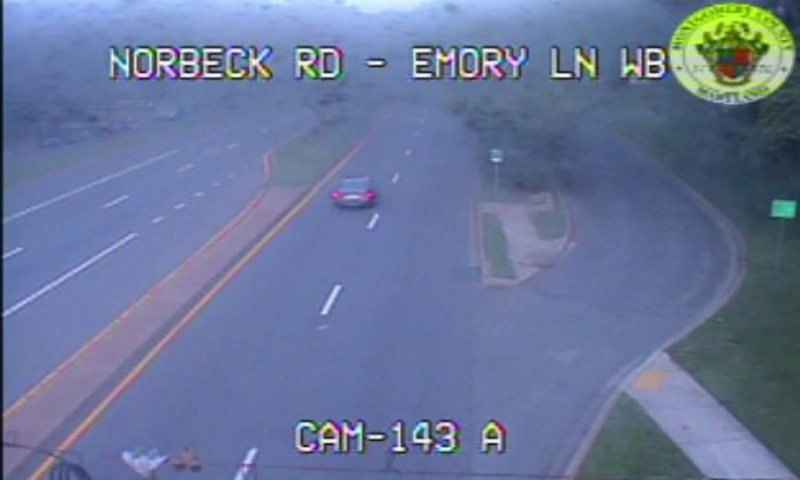car: (331, 177, 370, 206)
